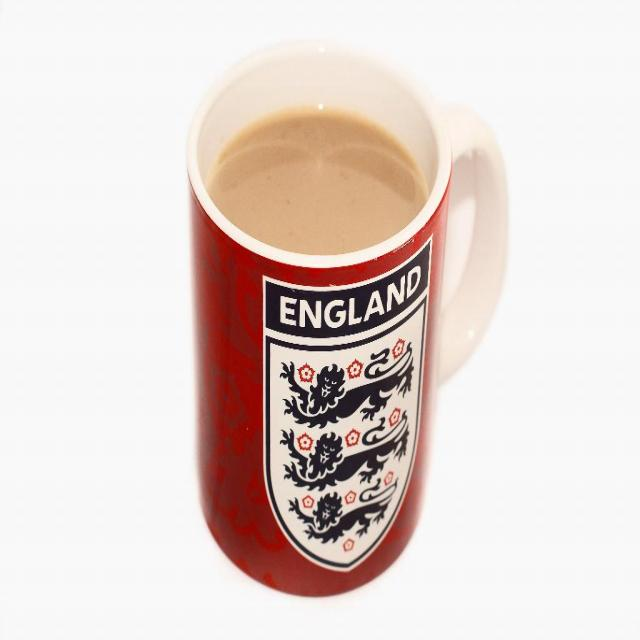Coffee: (205, 106, 431, 251)
Tea: (206, 104, 426, 258)
